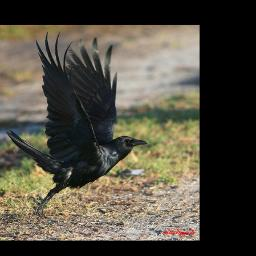Crow: (6, 30, 149, 219)
